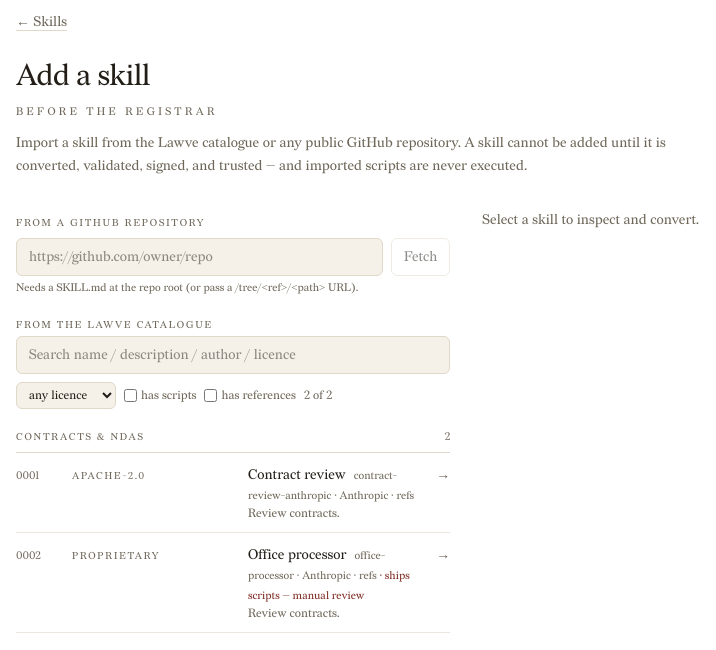
Test: LawveImport › lists skills and filters by search
This screenshot has width=716, height=650.
Check: the button with test id "lawve-card-contract-review-anthropic" is shown, box [16, 452, 450, 533]
Check: the button with test id "lawve-card-office-processor" is shown, box [16, 533, 450, 633]
In the field with test id "lawve-search": (233, 355) [16, 336, 450, 374], type "office"
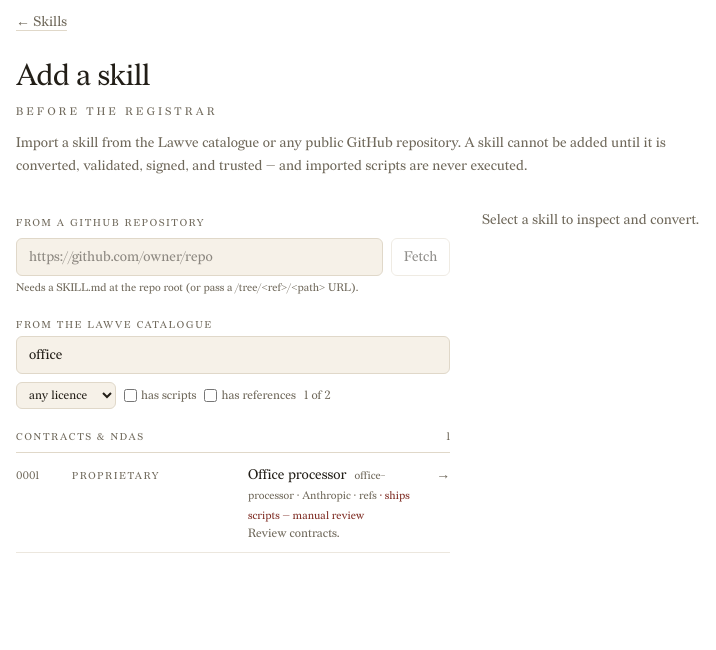
Check: the button with test id "lawve-card-office-processor" is shown, box [16, 452, 450, 553]
Check: the button with test id "lawve-card-contract-review-anthropic" is gone
